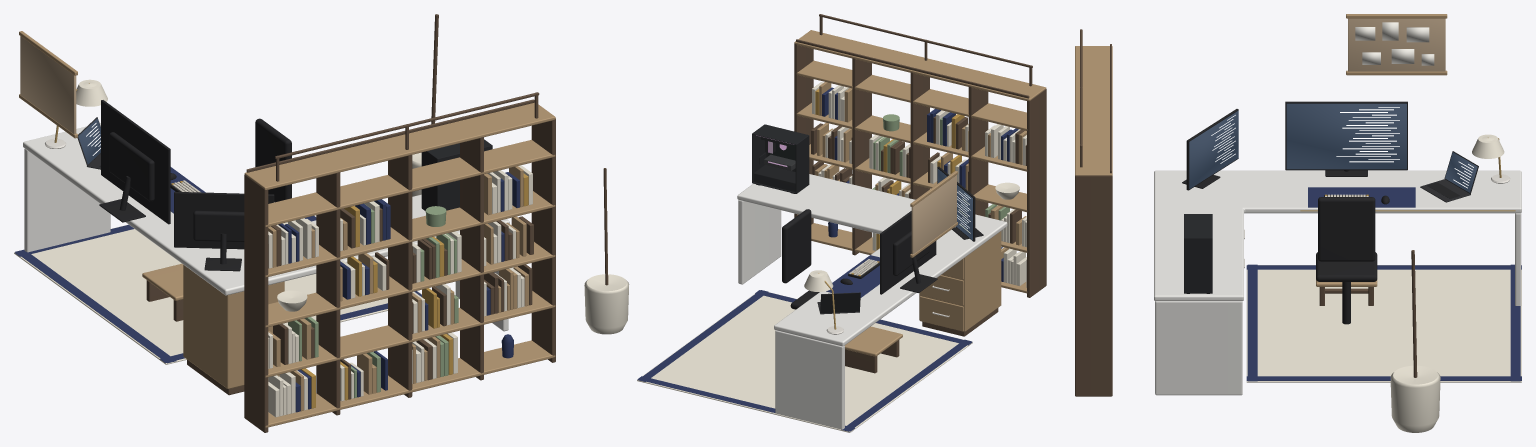
The model's file is room-study.glb.
3 renders of one model, left to right at view 1: azimuth 30°, elevation 25°; view 2: azimuth 150°, elevation 25°; view 3: azimuth 270°, elevation 25°, orthographic. The views are drawn at different scales.
Visible parts, largest first — view 1: study__pale oak, study__honey ash, study__linen, study__milky veined marble, study__matte black device, study__indigo textile, study__cork board, study__sage textile, study__ochre textile, study__pc black steel, study_placeholder_study-aeron, study__monitor screen glass; view 2: study__pale oak, study__linen, study__milky veined marble, study__honey ash, study__indigo textile, study__matte black device, study__pc black steel, study__cork board, study__pc tempered glass, study_placeholder_study-aeron, study__sage textile, study__ochre textile (+2 smaller); view 3: study__linen, study__milky veined marble, study__monitor screen glass, study__honey ash, study__indigo textile, study__pale oak, study_placeholder_study-aeron, study__cork board, study__pc black steel, study__matte black device, study__sketch paper, study__screen code light (+1 smaller).
Part boxes in pixels (bbox=[...]): study__pale oak: bbox=[19, 31, 555, 427]; study__honey ash: bbox=[146, 14, 555, 432]; study__linen: bbox=[14, 79, 532, 417]; study__milky veined marble: bbox=[23, 123, 509, 331]; study__matte black device: bbox=[99, 100, 274, 271]; study__indigo textile: bbox=[15, 167, 519, 412]; study__cork board: bbox=[20, 36, 76, 133]; study__sage textile: bbox=[288, 204, 458, 398]; study__ochre textile: bbox=[171, 173, 528, 408]; study__pc black steel: bbox=[421, 139, 492, 210]; study_placeholder_study-aeron: bbox=[255, 118, 291, 202]; study__monitor screen glass: bbox=[78, 118, 100, 164]; study__pale oak: bbox=[794, 30, 1046, 356]; study__linen: bbox=[584, 82, 1026, 432]; study__milky veined marble: bbox=[737, 174, 1007, 429]; study__honey ash: bbox=[603, 14, 1046, 373]; study__indigo textile: bbox=[637, 87, 1018, 431]; study__matte black device: bbox=[756, 137, 983, 304]; study__pc black steel: bbox=[752, 124, 809, 193]; study__cork board: bbox=[911, 175, 956, 254]; study__pc tempered glass: bbox=[753, 135, 795, 192]; study_placeholder_study-aeron: bbox=[782, 209, 819, 309]; study__sage textile: bbox=[872, 113, 1009, 220]; study__ochre textile: bbox=[815, 88, 968, 276]; study__linen: bbox=[1246, 134, 1521, 432]; study__milky veined marble: bbox=[1154, 170, 1521, 395]; study__monitor screen glass: bbox=[1189, 103, 1477, 192]; study__honey ash: bbox=[1075, 29, 1417, 396]; study__indigo textile: bbox=[1246, 187, 1521, 381]; study__pale oak: bbox=[1075, 14, 1447, 286]; study_placeholder_study-aeron: bbox=[1316, 197, 1377, 324]; study__cork board: bbox=[1348, 18, 1445, 71]; study__pc black steel: bbox=[1184, 214, 1212, 293]; study__matte black device: bbox=[1182, 101, 1459, 293]; study__sketch paper: bbox=[1355, 22, 1434, 65]; study__screen code light: bbox=[1211, 109, 1472, 188].
Size of the model in its own units: 3.5 by 2.16 by 3.57.
